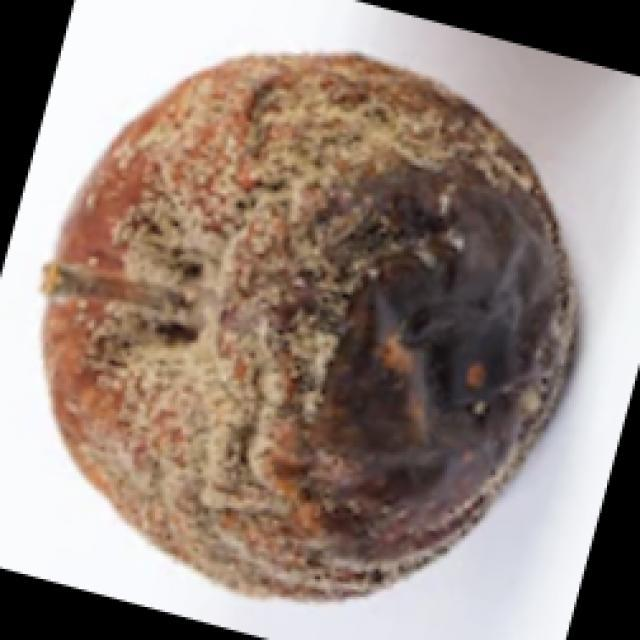Rotten: (81, 47, 562, 595)
